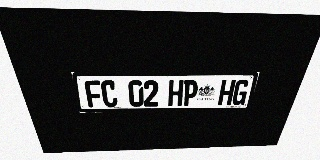0: (128, 80, 144, 107)
2: (143, 80, 158, 107)
C: (100, 80, 118, 107)
F: (84, 80, 103, 107)
G: (231, 80, 250, 105)
H: (217, 80, 236, 105), (168, 80, 184, 106)
P: (182, 80, 199, 106)
